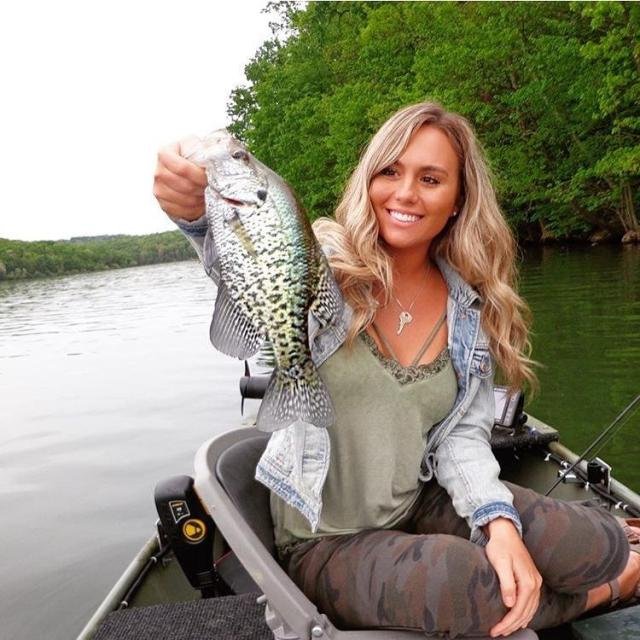Crappie - Black: (188, 130, 342, 430)
